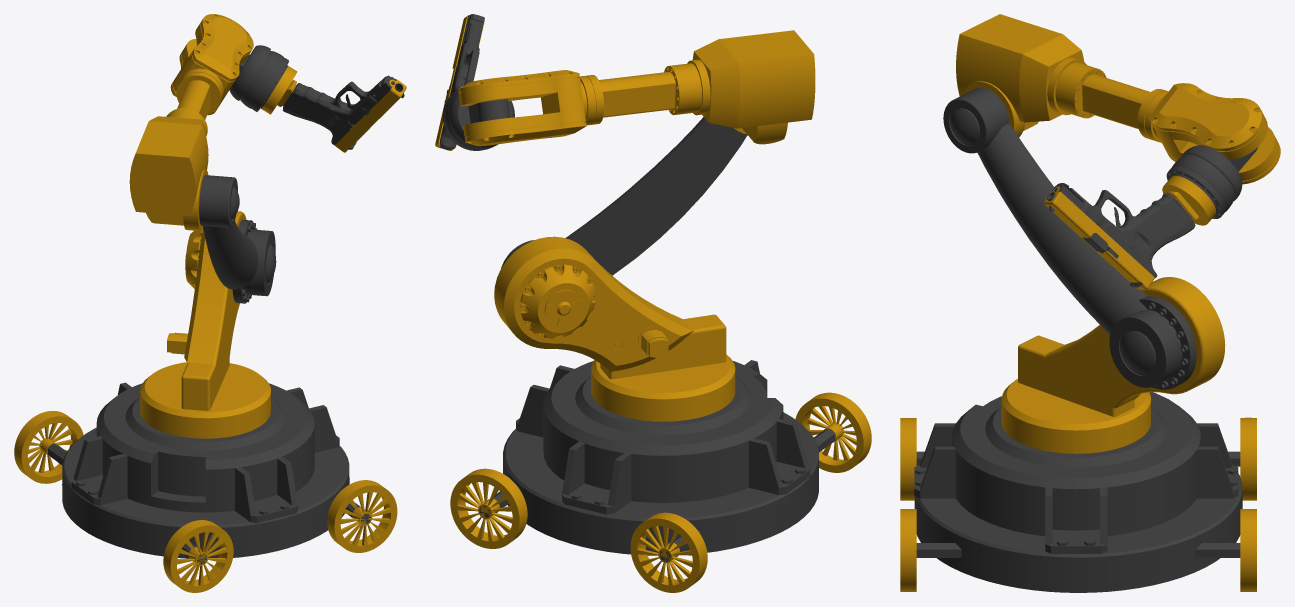
Rendered from Robot v5.fbx.
The picture shows the model from 3 angles, left to right: view 1: azimuth 30°, elevation 25°; view 2: azimuth 150°, elevation 25°; view 3: azimuth 270°, elevation 25°; orthographic projection. The views are drawn at different scales.
Parts seen in each view (by area): view 1: Body1 (×10), GLOCK19, GLOCK19 (1), GLOCK19 (3); view 2: Body1 (×10), GLOCK19; view 3: Body1 (×11), GLOCK19, GLOCK19 (1), GLOCK19 (3).
Part boxes in pixels (x1,y1,x2,y2): Body1 (×10): [14, 14, 397, 592]; GLOCK19: [283, 75, 396, 144]; GLOCK19 (1): [334, 79, 406, 152]; GLOCK19 (3): [262, 66, 297, 114]; Body1 (×10): [443, 30, 871, 592]; GLOCK19: [440, 14, 484, 148]; Body1 (×11): [900, 14, 1280, 592]; GLOCK19: [1052, 183, 1195, 278]; GLOCK19 (1): [1044, 186, 1154, 289]; GLOCK19 (3): [1162, 175, 1216, 225].
Bounding box in the file's own units: 499 × 643 × 459.
